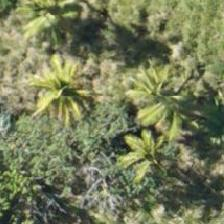coconut_tree: (117, 45, 207, 135), (21, 37, 111, 127), (86, 137, 176, 223), (6, 0, 96, 66)
